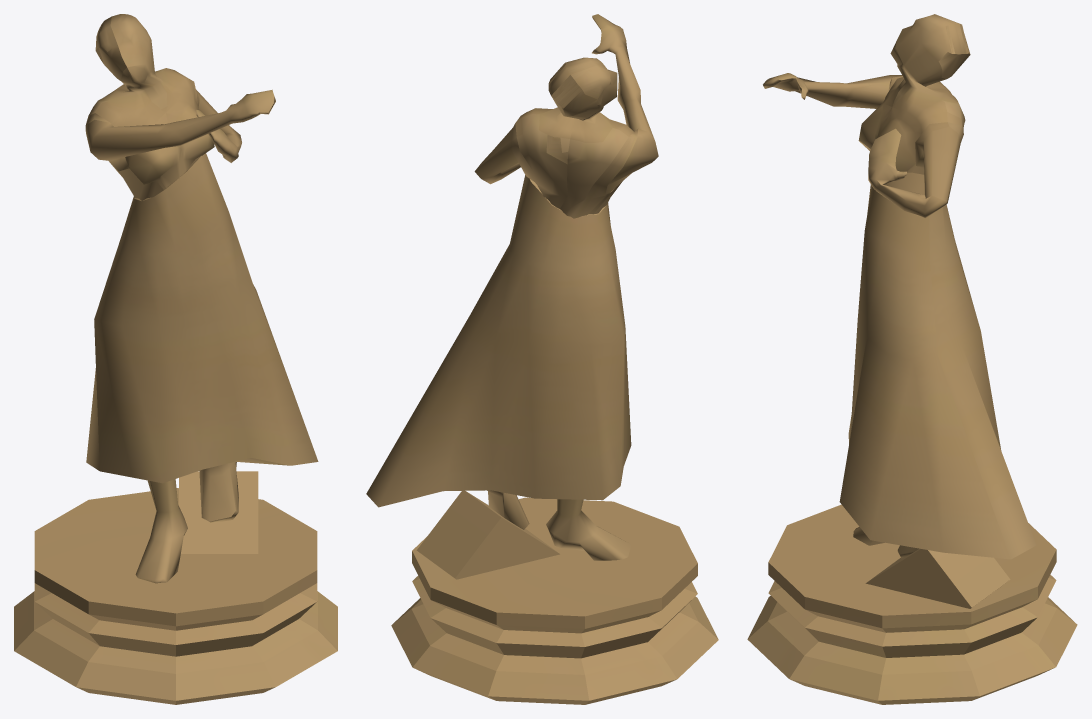
Rendered from SandStatue.fbx.
3 renders of one model, left to right at view 1: azimuth 30°, elevation 25°; view 2: azimuth 150°, elevation 25°; view 3: azimuth 270°, elevation 25°, orthographic. The views are drawn at different scales.
Visible parts, largest first — view 1: SandStatue; view 2: SandStatue; view 3: SandStatue.
Part boxes in pixels (x1,y1,x2,y2): SandStatue: [14, 14, 337, 704]; SandStatue: [366, 14, 718, 704]; SandStatue: [747, 14, 1077, 704].
Size of the model in its own units: 6.29 by 12.99 by 6.39.
